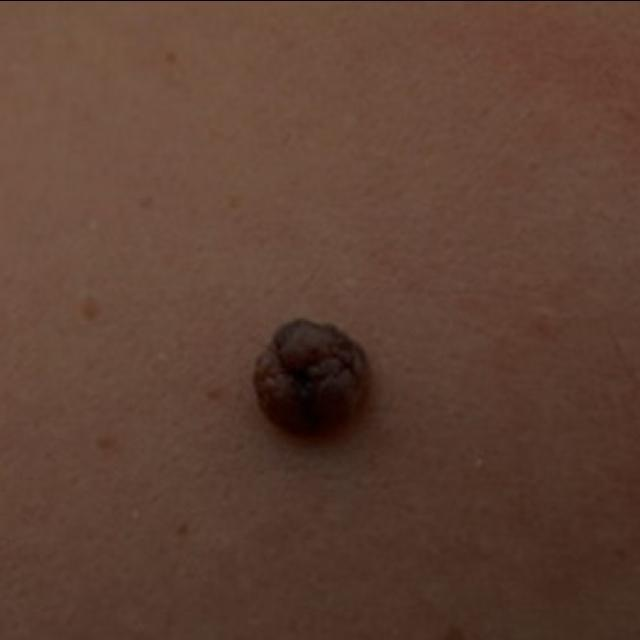wart: (224, 283, 408, 472)
